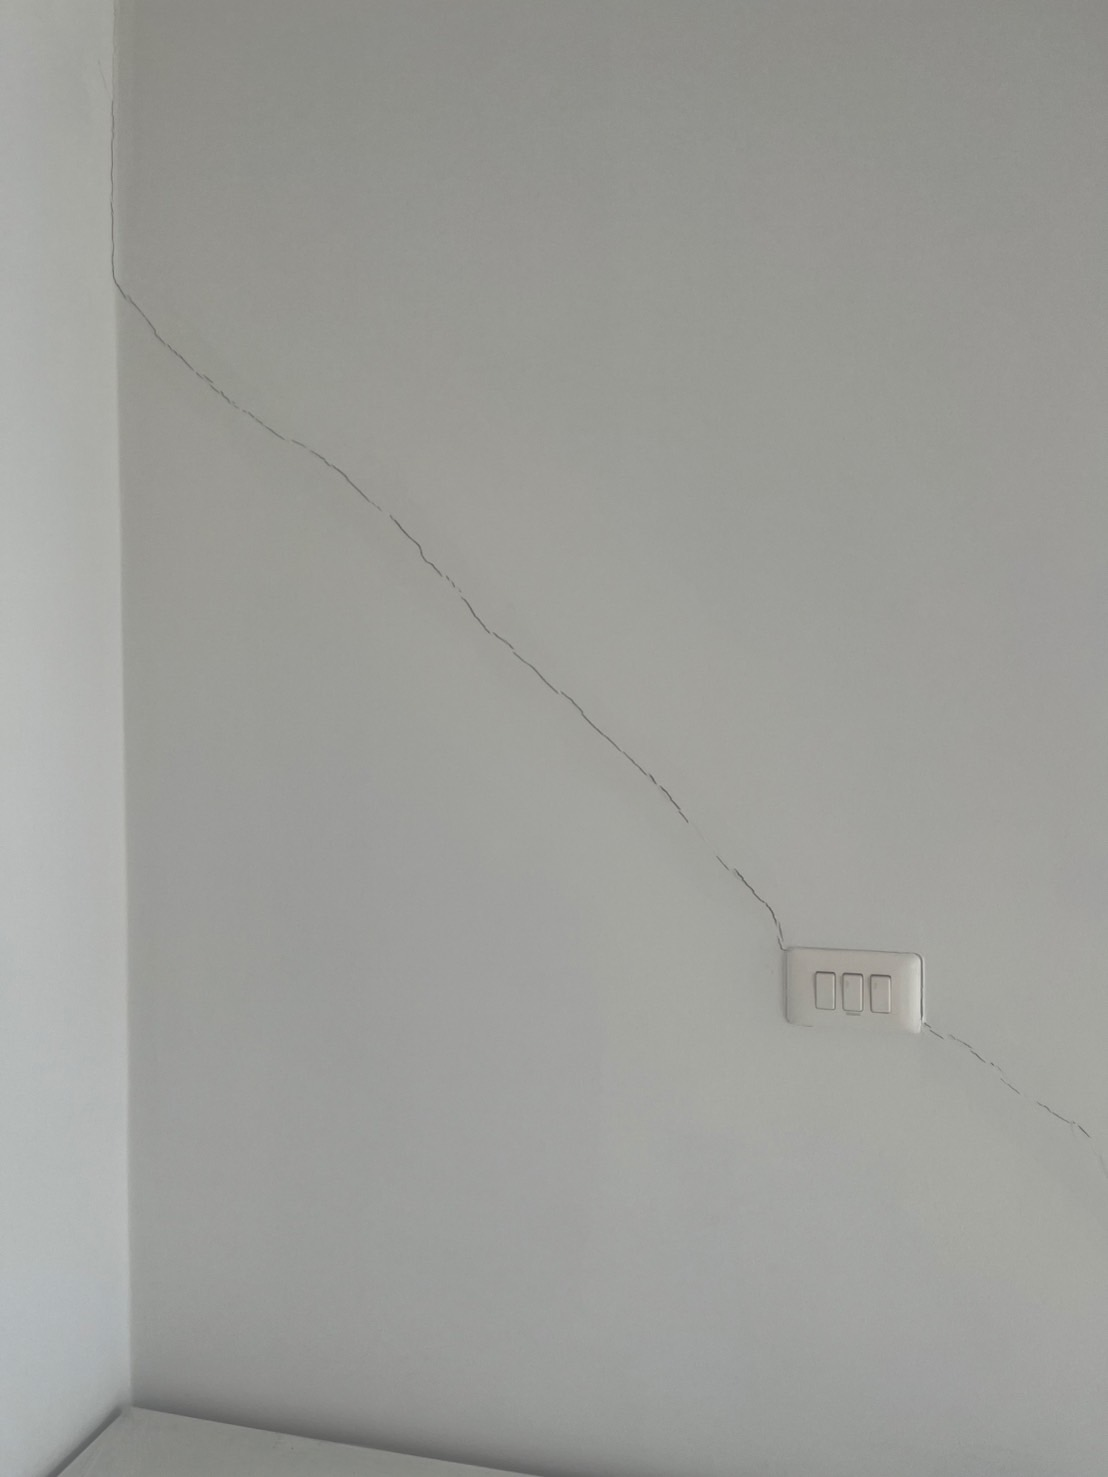Low: (88, 166, 791, 949)
